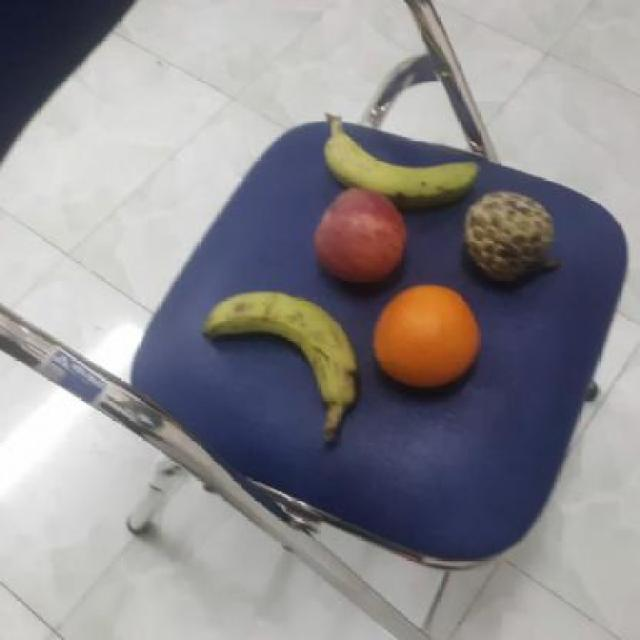apple: (305, 186, 407, 286)
banana: (198, 288, 360, 408), (322, 128, 480, 208)
oren: (371, 281, 482, 394)
sugar apple: (460, 191, 554, 286)
